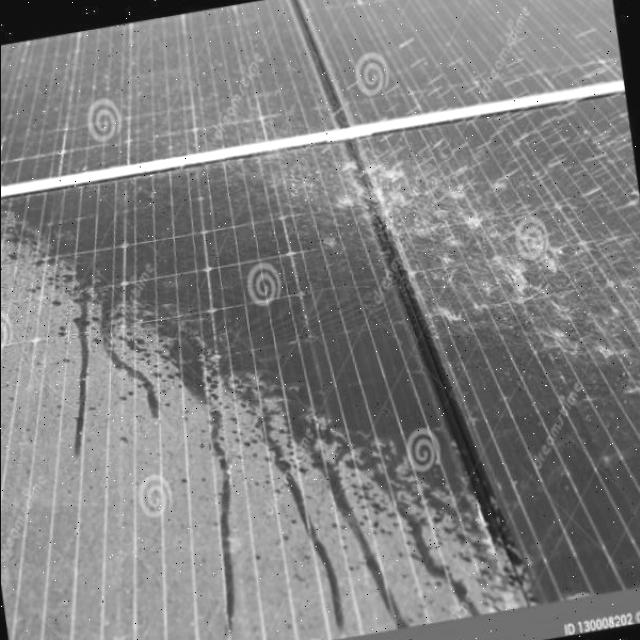Surface Contaminant: (0, 205, 518, 640), (220, 15, 640, 406)
